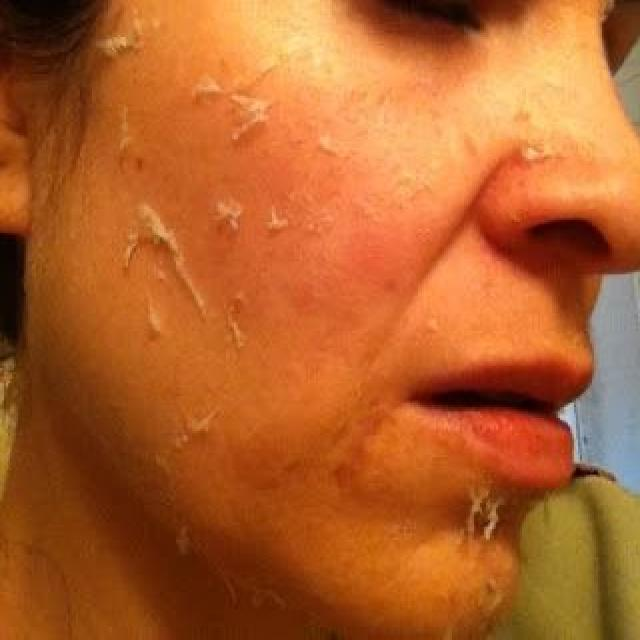Dry-Skin: (199, 302, 366, 358), (116, 45, 227, 116), (465, 507, 557, 566), (258, 28, 371, 76), (282, 415, 432, 449), (212, 136, 252, 251), (354, 133, 418, 190), (166, 430, 260, 460), (150, 208, 276, 218)
